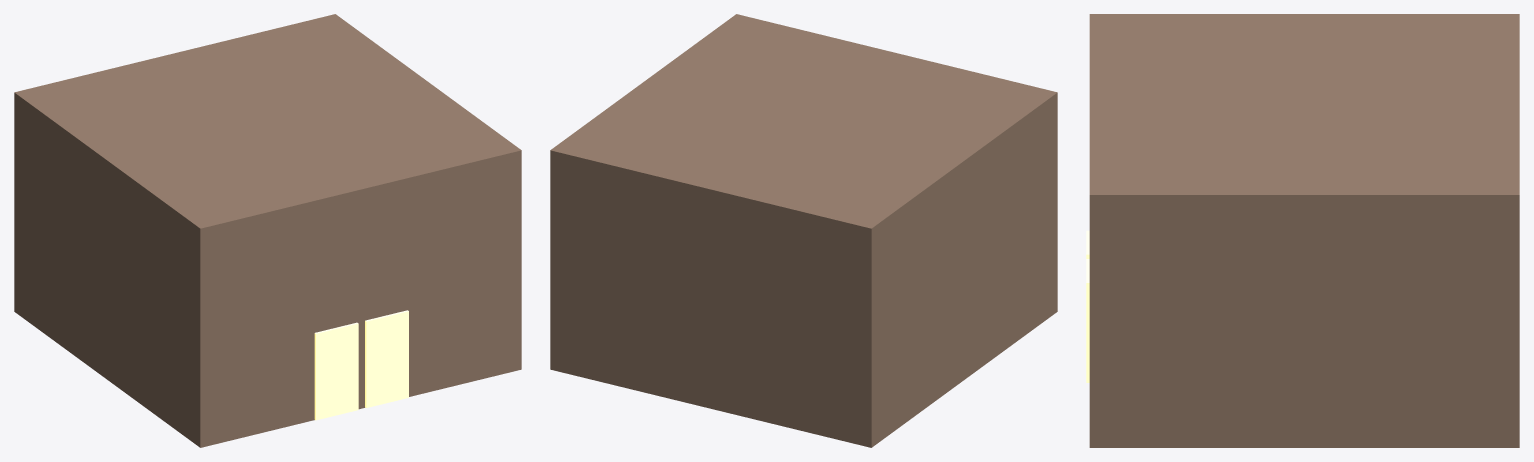
3 renders of one model, left to right at view 1: azimuth 30°, elevation 25°; view 2: azimuth 150°, elevation 25°; view 3: azimuth 270°, elevation 25°, orthographic. The views are drawn at different scales.
Parts seen in each view (by area): view 1: Cube.028, Cube.001, Cube; view 2: Cube.028; view 3: Cube.028, Cube.
Part boxes in pixels (x1=…): Cube.028: x1=14, y1=14, x2=521, y2=447; Cube.001: x1=314, y1=322, x2=358, y2=420; Cube: x1=365, y1=310, x2=408, y2=407; Cube.028: x1=550, y1=14, x2=1057, y2=447; Cube.028: x1=1089, y1=14, x2=1519, y2=447; Cube: x1=1086, y1=259, x2=1089, y2=382.
Bounding box in the file's own units: 12.41 × 8.1 × 12.56.
